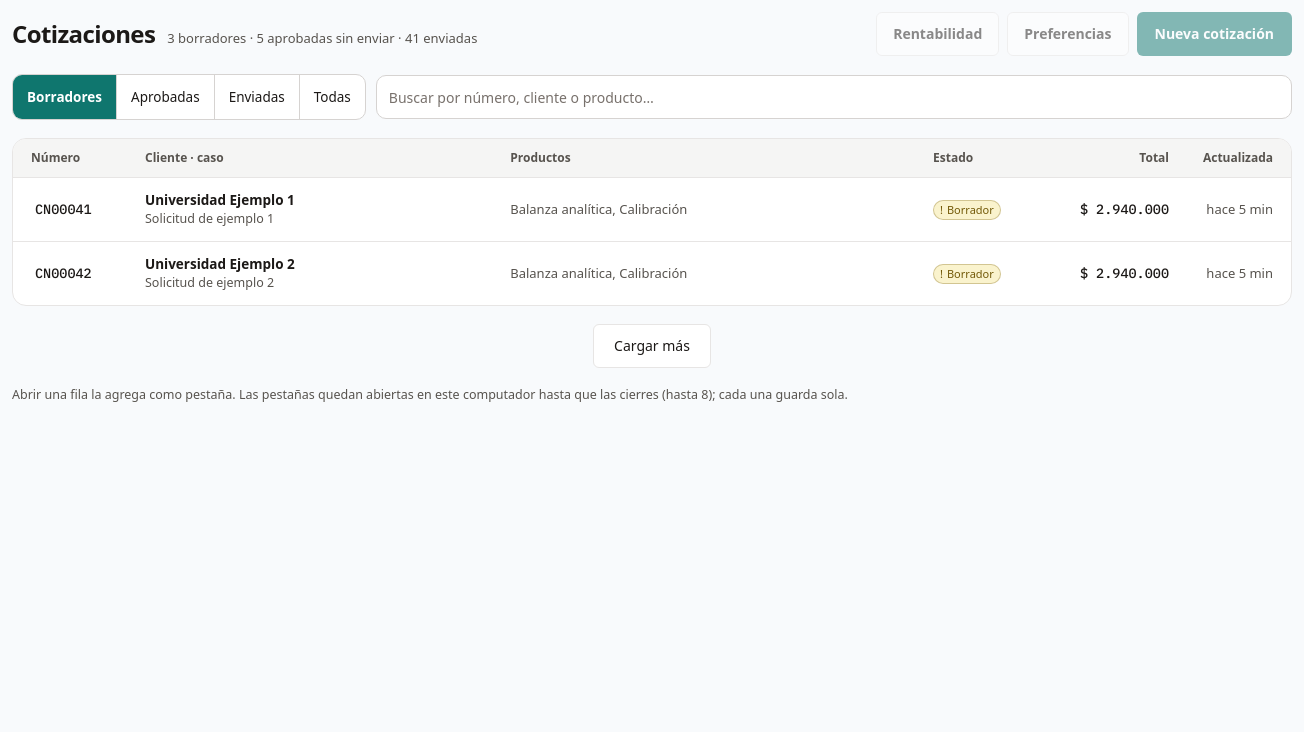
Test: QuoteListPane › «Cargar más» appends the next page by its cursor, and goes away at the end
Expected: the button "CN00041" is shown, 31,188 -> 96,232
Click the button "Cargar más" at (652, 346), box 593,324 -> 711,368
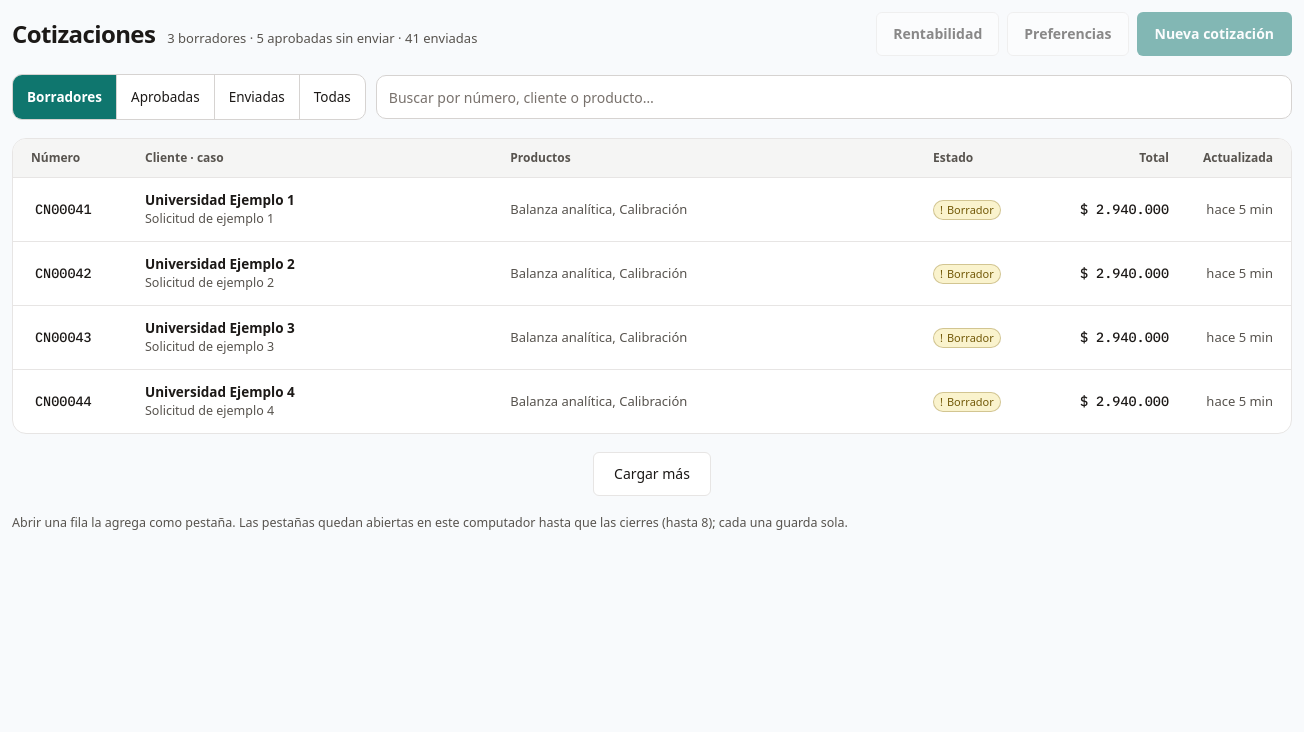
Now the button "CN00044" is shown, box 31,380 -> 96,424
Click the button "Cargar más" at (652, 474), box 593,452 -> 711,496
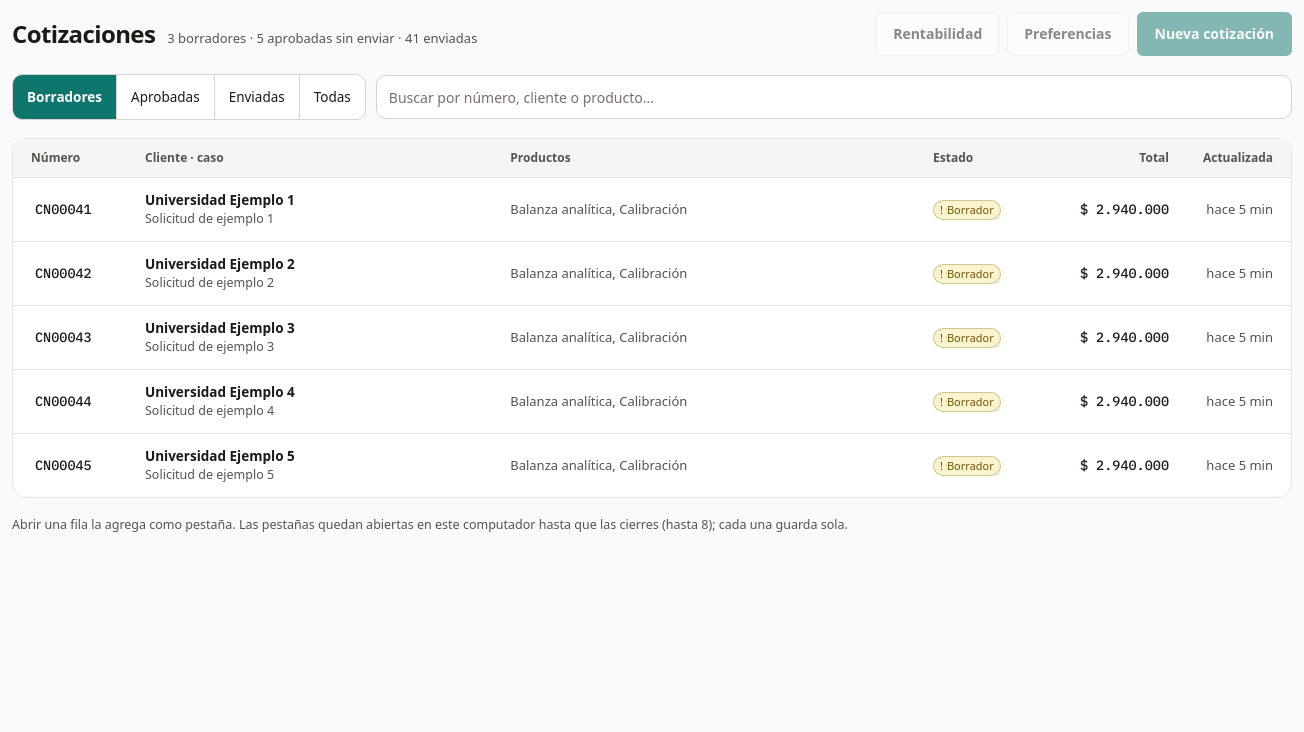
Now the button "CN00045" is shown, box 31,444 -> 96,488
Now the button "Cargar más" is gone
